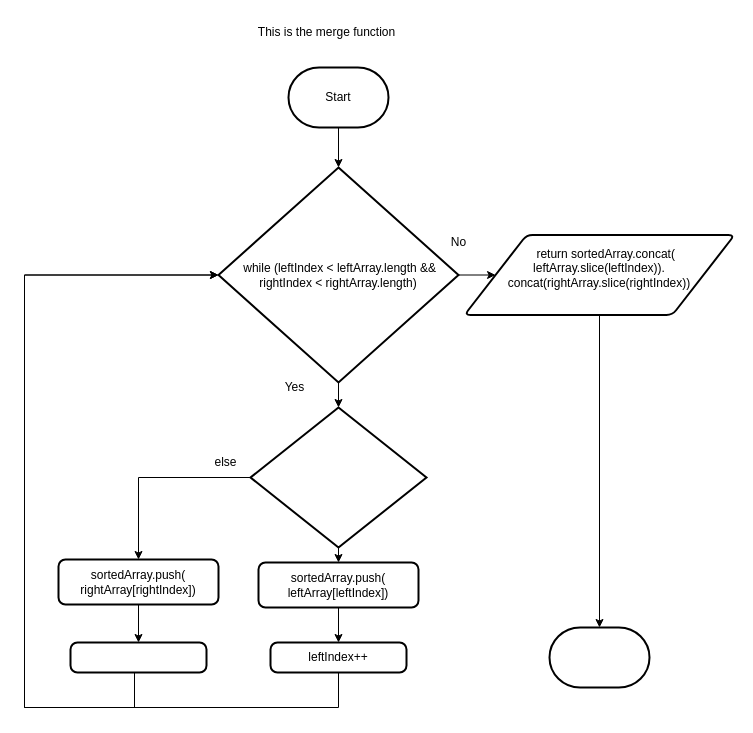
Image size: 753x733. Some labels were removed from this diagram. The centre of each missing label's shape, as x and y in pixels:
if (leftArray[leftIndex] < rightArray[rightIndex]): pixel 338 477
rightIndex++: pixel 138 657
Stop: pixel 599 657
